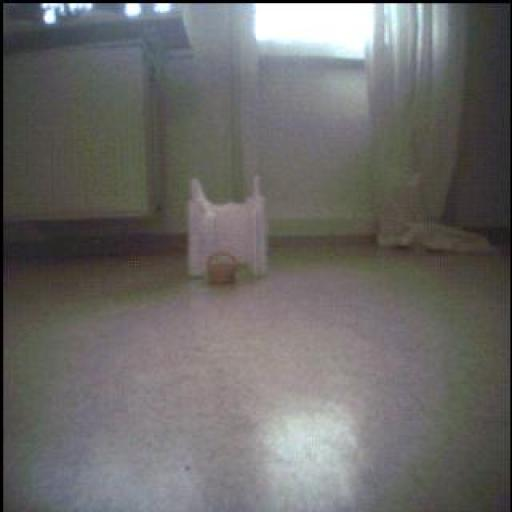Basket: (208, 254, 240, 284)
